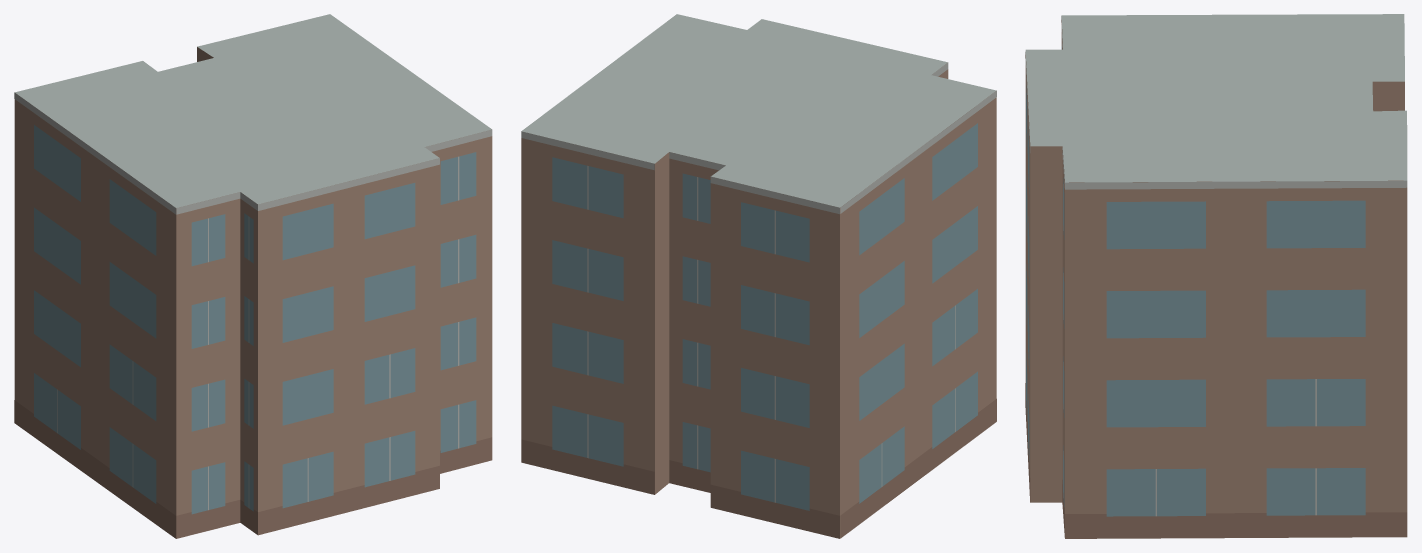
Rendered from survey-upis-32899114.glb.
3 renders of one model, left to right at view 1: azimuth 30°, elevation 25°; view 2: azimuth 150°, elevation 25°; view 3: azimuth 270°, elevation 25°, orthographic. The views are drawn at different scales.
Visible parts, largest first — view 1: survey-upis-32899114.tmp; view 2: survey-upis-32899114.tmp; view 3: survey-upis-32899114.tmp.
Part boxes in pixels (x1,y1,x2,y2): survey-upis-32899114.tmp: (14, 14, 492, 538); survey-upis-32899114.tmp: (521, 14, 996, 538); survey-upis-32899114.tmp: (1025, 14, 1407, 538).
Size of the model in its own units: 12.38 by 12.2 by 11.86.
